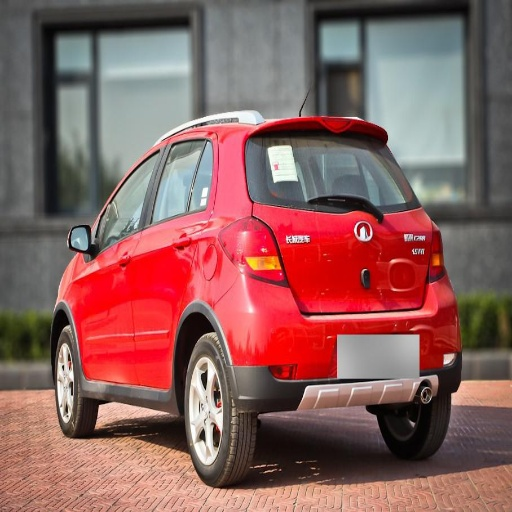back_bumper: (212, 275, 458, 413)
back_glass: (249, 132, 411, 209)
back_left_door: (129, 134, 212, 378)
tailgate: (276, 236, 339, 312)
trunk: (256, 205, 432, 311)
